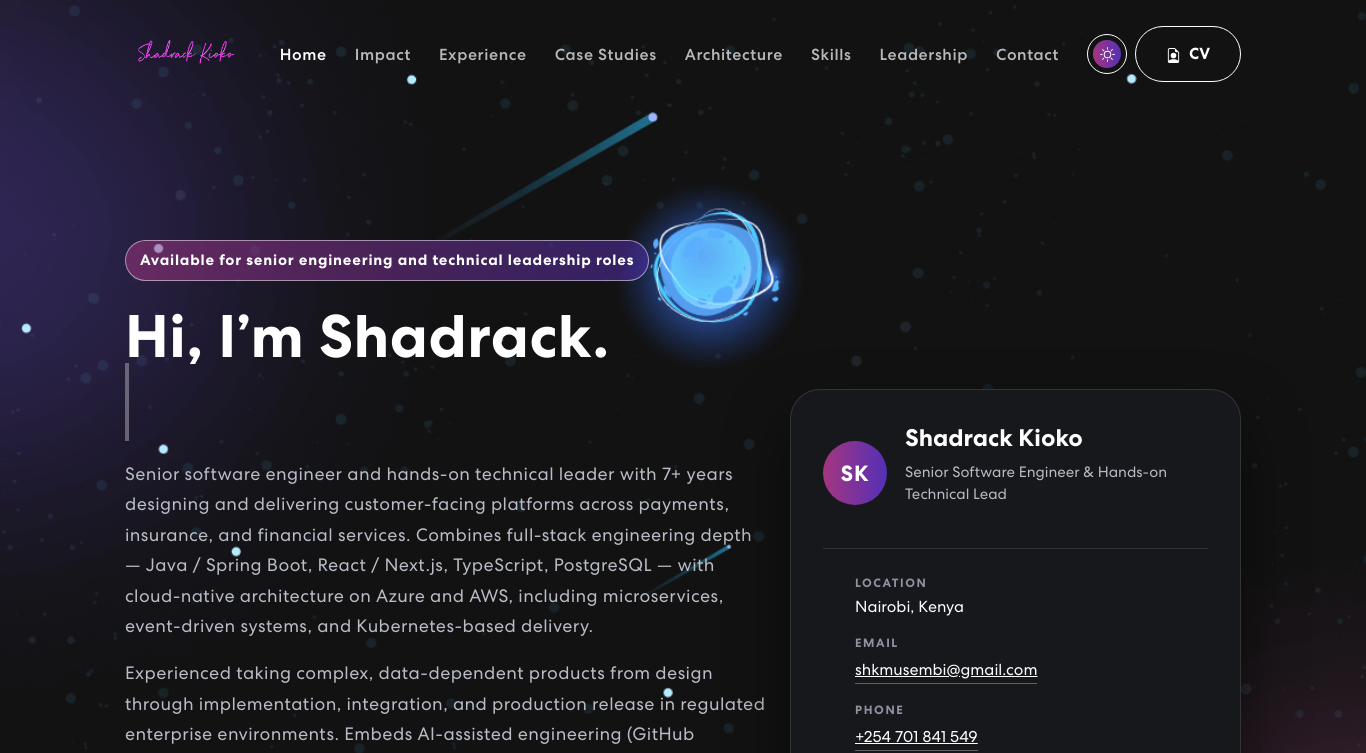
Test: opens a printable CV view and returns to the site
Click the button "CV" at (1188, 54), box x1=1135 y1=26 x2=1241 y2=82
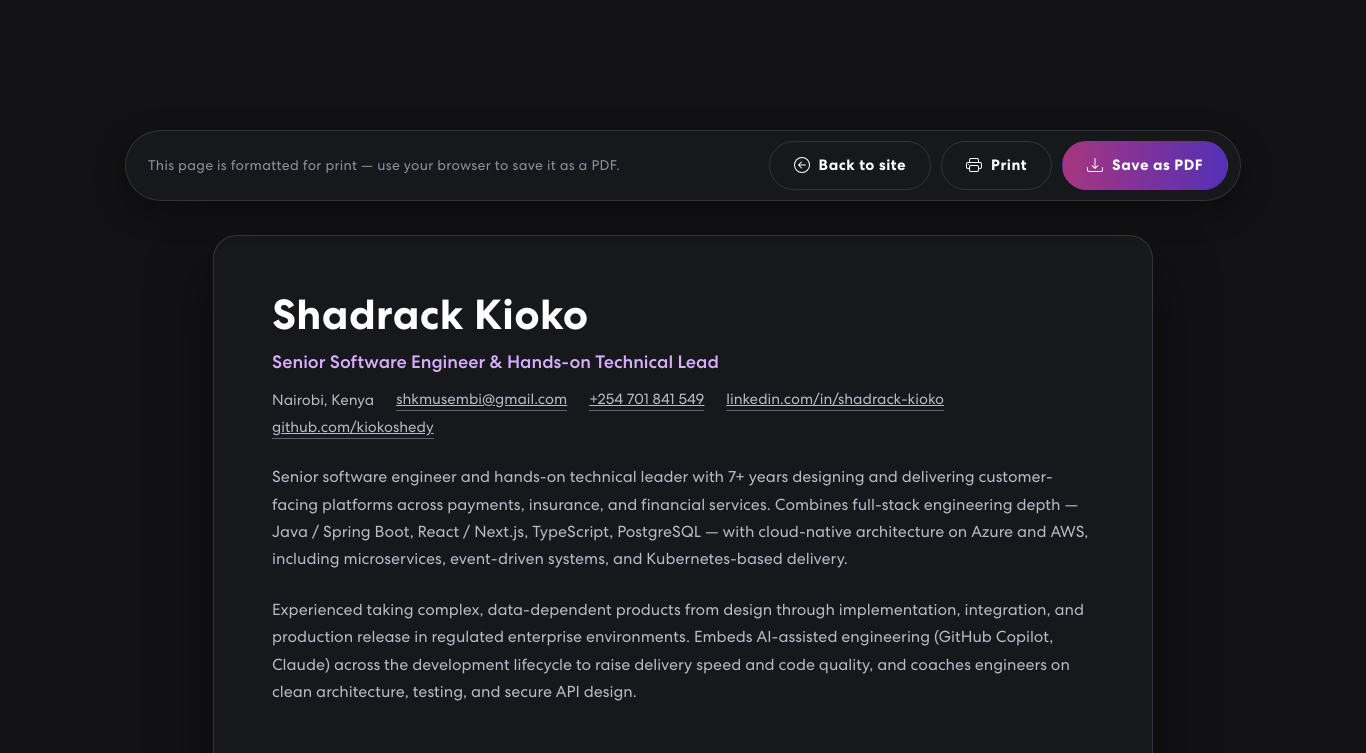
Now the heading "Shadrack Kioko" is shown, box x1=272 y1=286 x2=588 y2=342
Now the button with aria-label "save this cv as pdf" is shown, box x1=1062 y1=141 x2=1228 y2=190
Click the button "Back to site" at (850, 165), box x1=769 y1=141 x2=931 y2=190
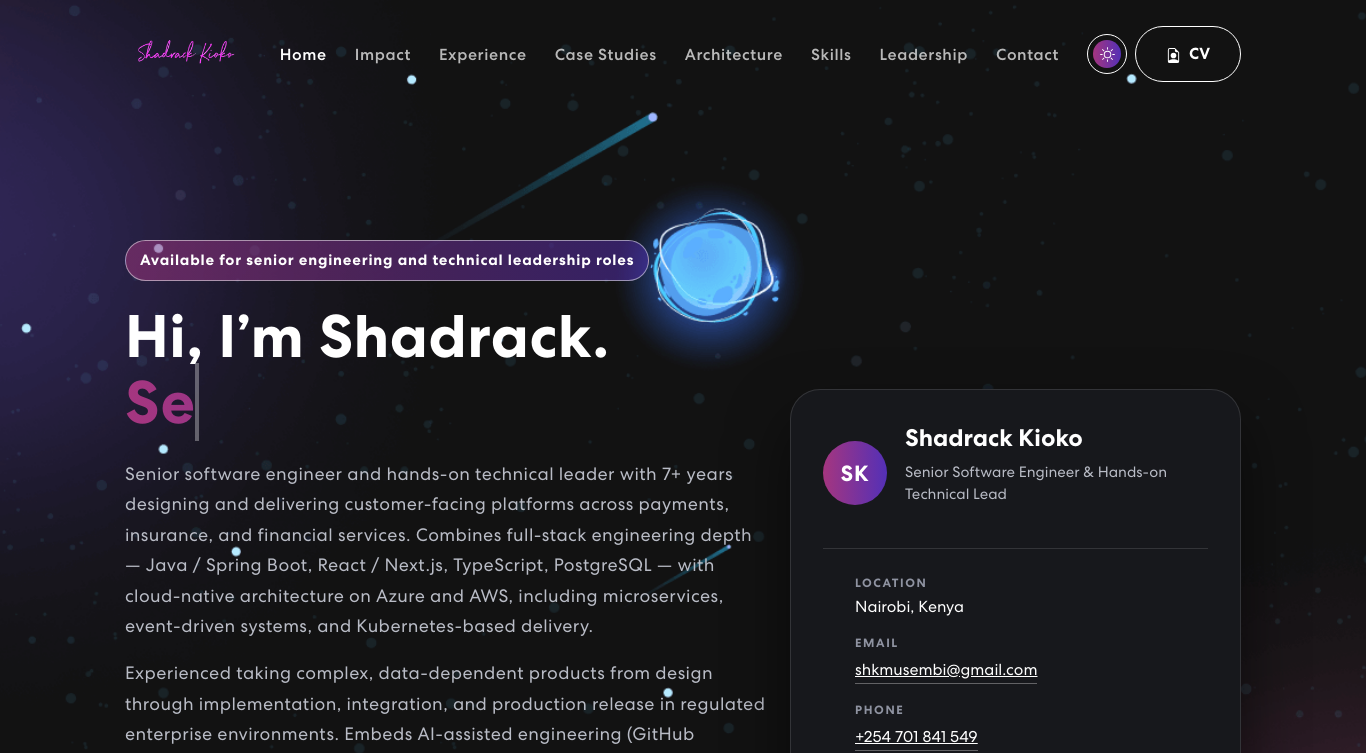
Now the heading "Hi, I’m Shadrack. Se" is shown, box x1=125 y1=302 x2=766 y2=434
